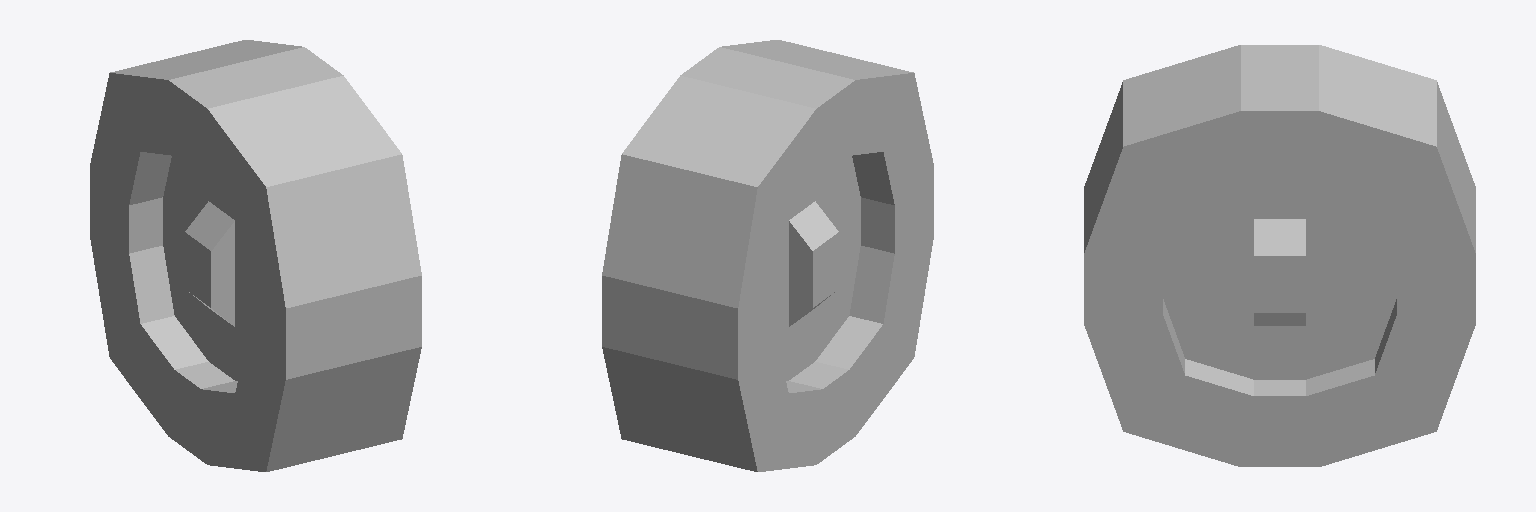
Rendered from coin.obj.
3 renders of one model, left to right at view 1: azimuth 30°, elevation 25°; view 2: azimuth 150°, elevation 25°; view 3: azimuth 270°, elevation 25°, orthographic.
Parts seen in each view (by area): view 1: coin; view 2: coin; view 3: coin.
Part boxes in pixels (x1,y1,x2,y2): coin: (90, 40, 421, 471); coin: (602, 40, 933, 471); coin: (1084, 45, 1475, 466).
Bounding box in the file's own units: 0.1667 × 0.4167 × 0.415.